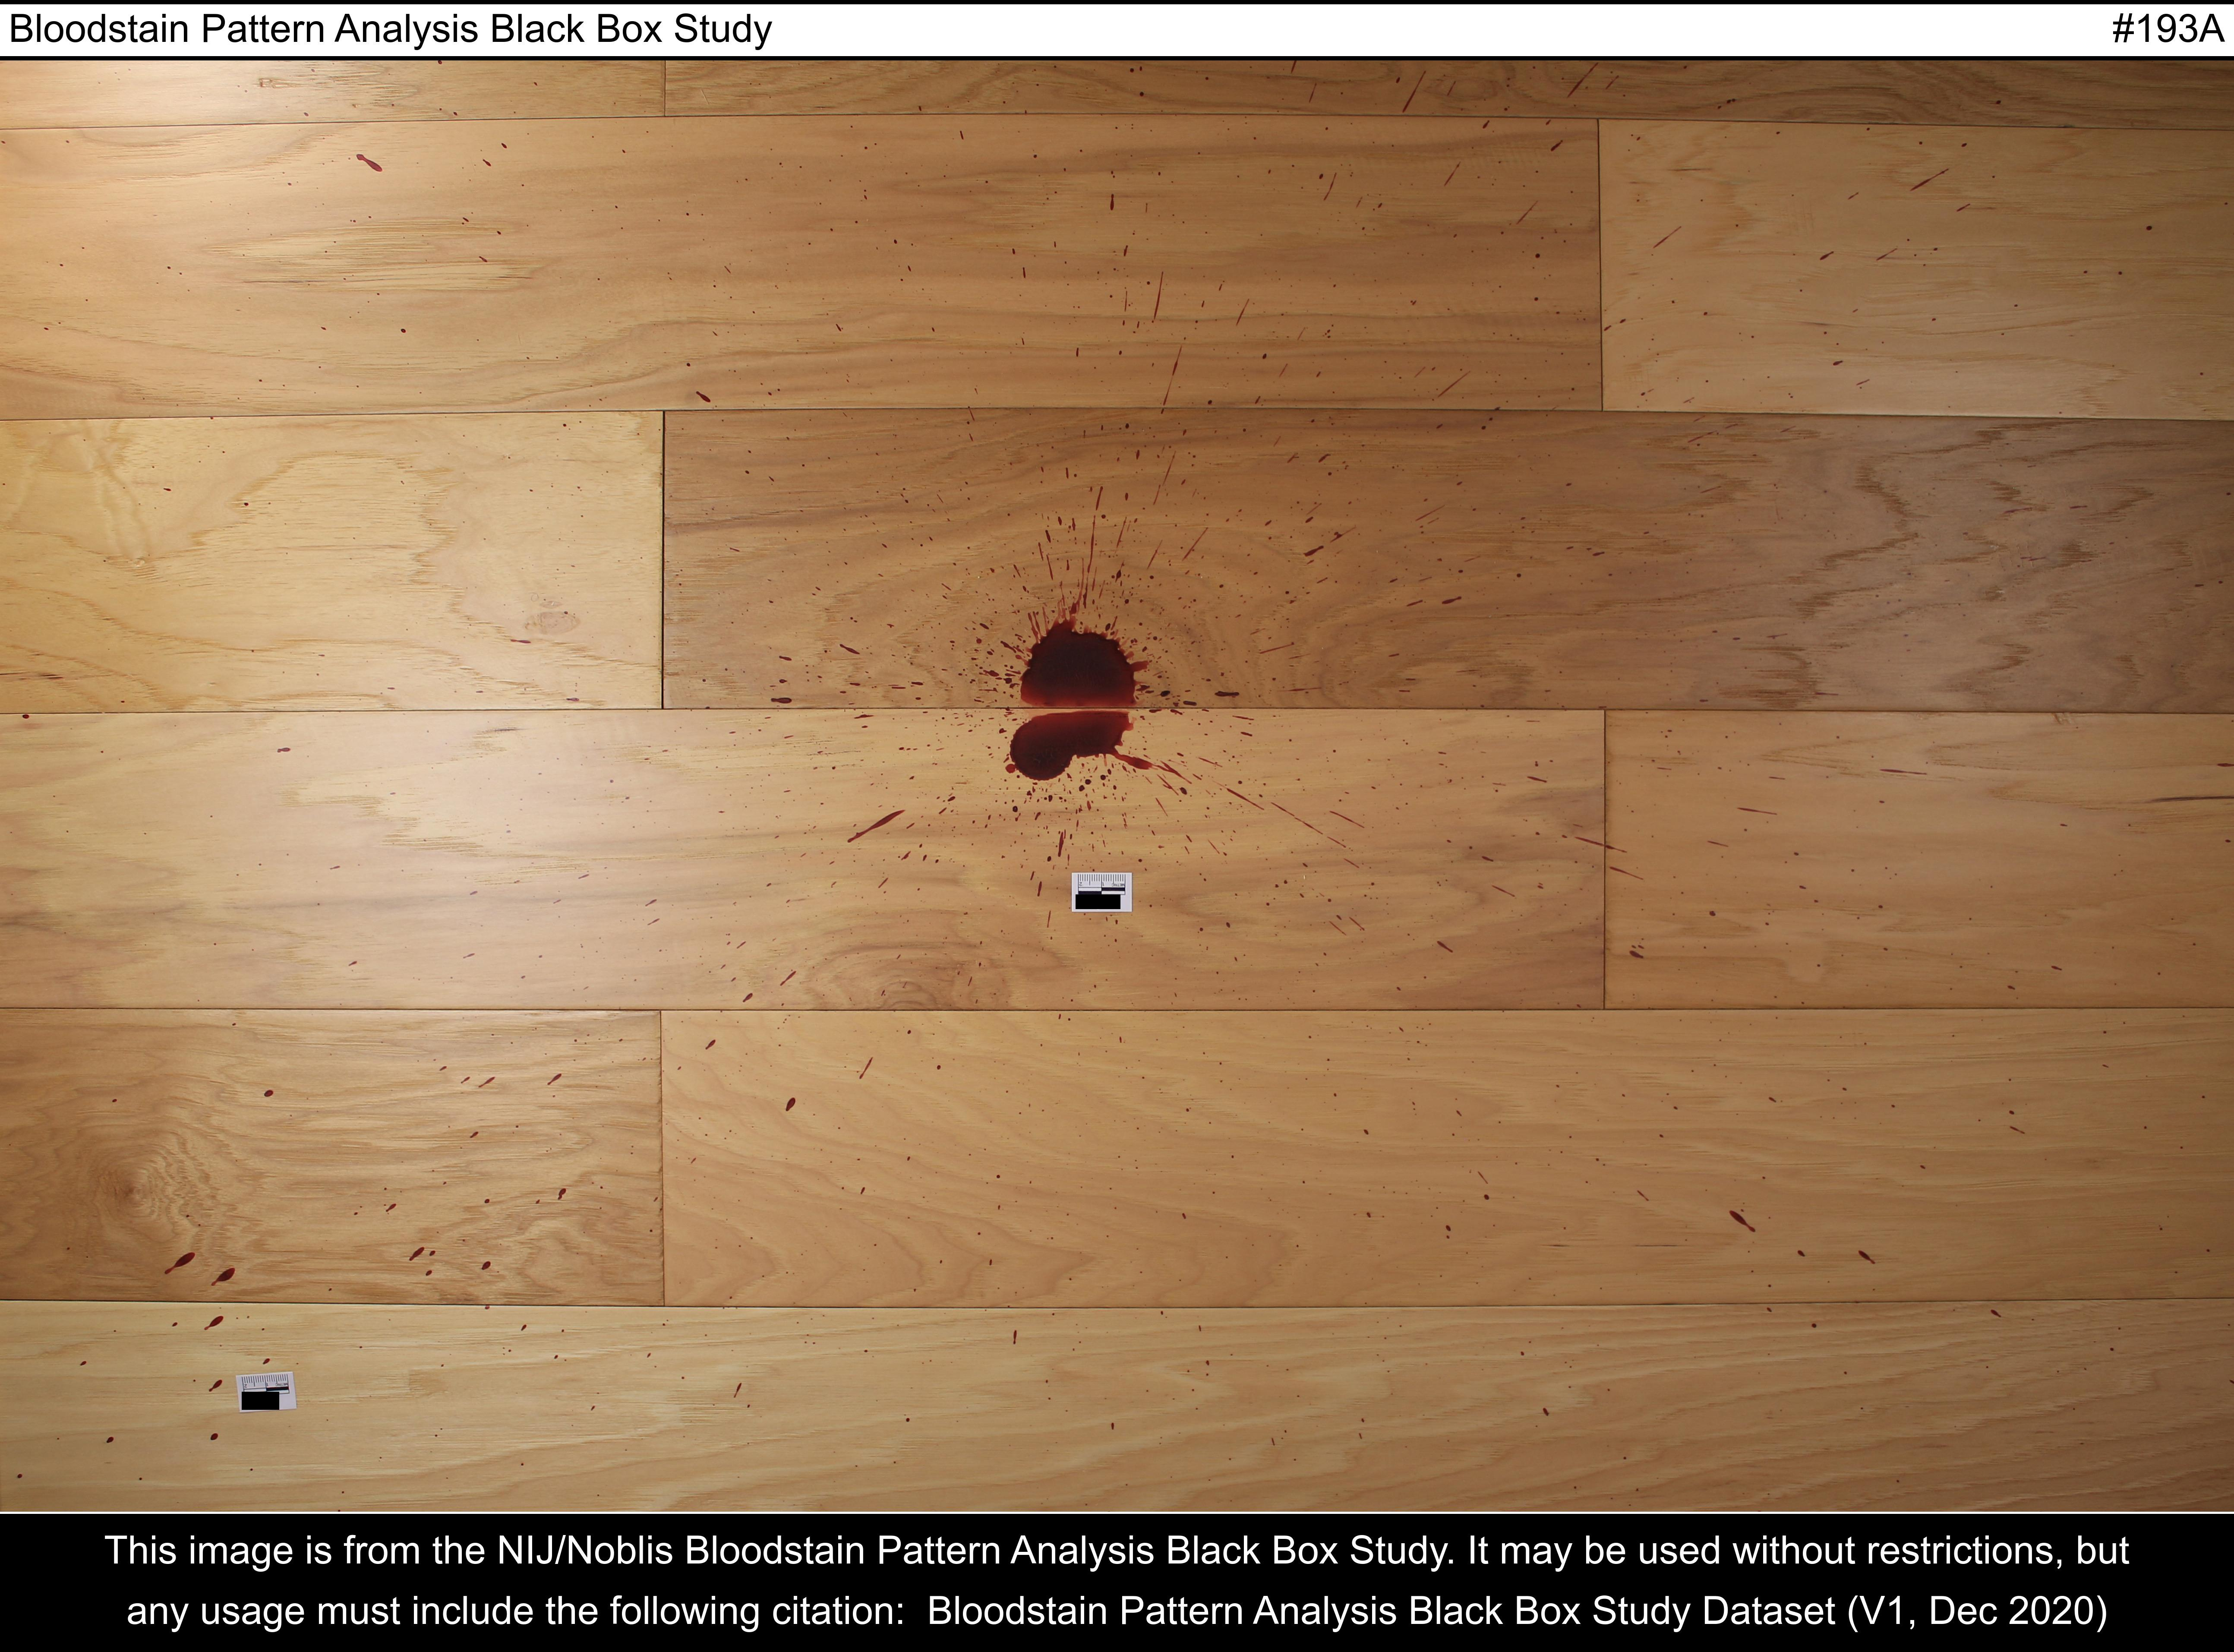Passive: (855, 418, 1301, 869)
